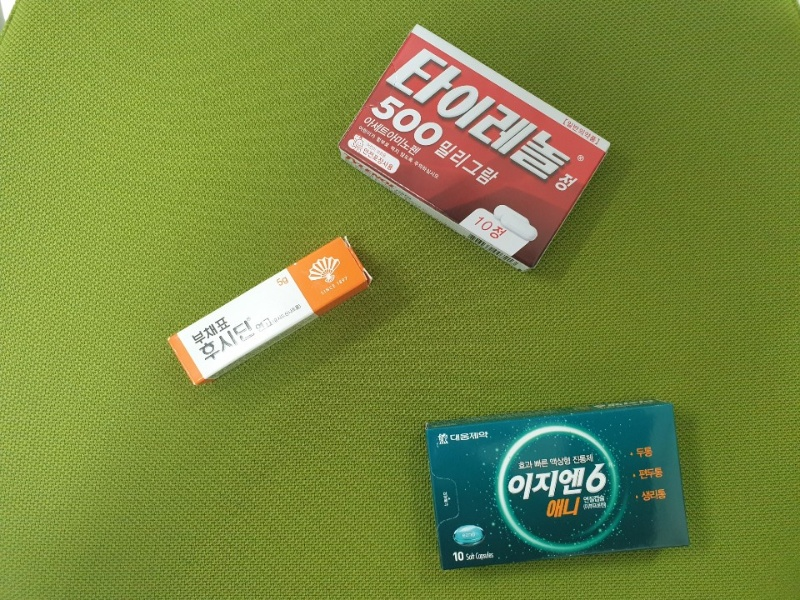ezn: (426, 401, 692, 570)
fucidin: (165, 239, 368, 388)
tylenol: (346, 23, 608, 271)
